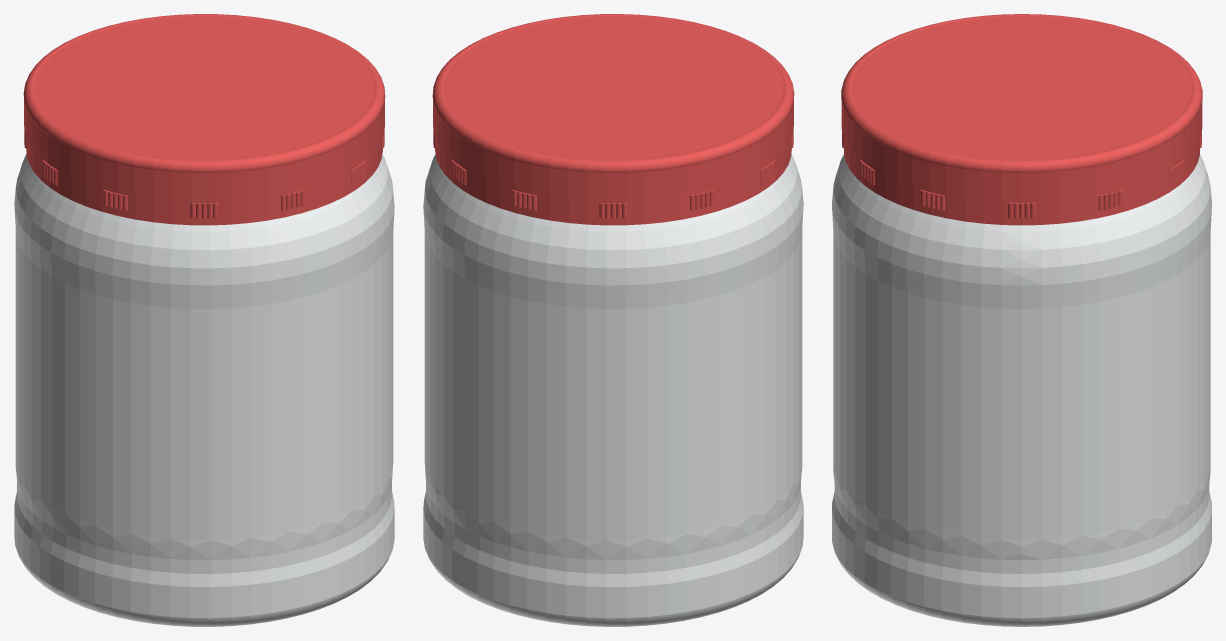
File: PROP_chili_paste_jar_v005_GAME.glb
The picture shows the model from 3 angles, left to right: view 1: azimuth 30°, elevation 25°; view 2: azimuth 150°, elevation 25°; view 3: azimuth 270°, elevation 25°; orthographic projection.
Parts seen in each view (by area): view 1: Jar_Body__Original_V003, Lid_Shell, Lid_Grip_Ribs; view 2: Jar_Body__Original_V003, Lid_Shell, Lid_Grip_Ribs; view 3: Jar_Body__Original_V003, Lid_Shell, Lid_Grip_Ribs.
Boxes of the visible parts, box(x1,y1,x2,y2) form: Jar_Body__Original_V003: box(14, 154, 394, 626); Lid_Shell: box(23, 14, 385, 225); Lid_Grip_Ribs: box(24, 129, 384, 218); Jar_Body__Original_V003: box(423, 154, 803, 626); Lid_Shell: box(432, 14, 794, 225); Lid_Grip_Ribs: box(433, 129, 793, 218); Jar_Body__Original_V003: box(832, 155, 1211, 626); Lid_Shell: box(841, 14, 1202, 225); Lid_Grip_Ribs: box(842, 130, 1201, 218).
Bounding box in the file's own units: 0.1 × 0.1351 × 0.0999.
